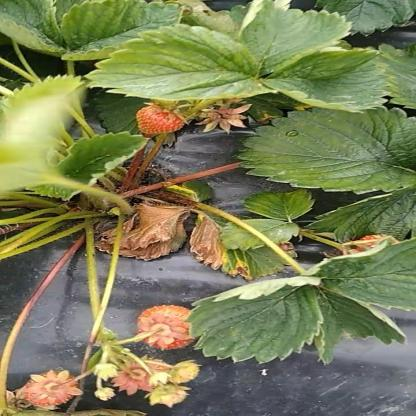ripe: (128, 304, 205, 353), (19, 369, 83, 408), (136, 103, 197, 136)
unripe: (140, 384, 199, 409), (166, 359, 206, 385)
